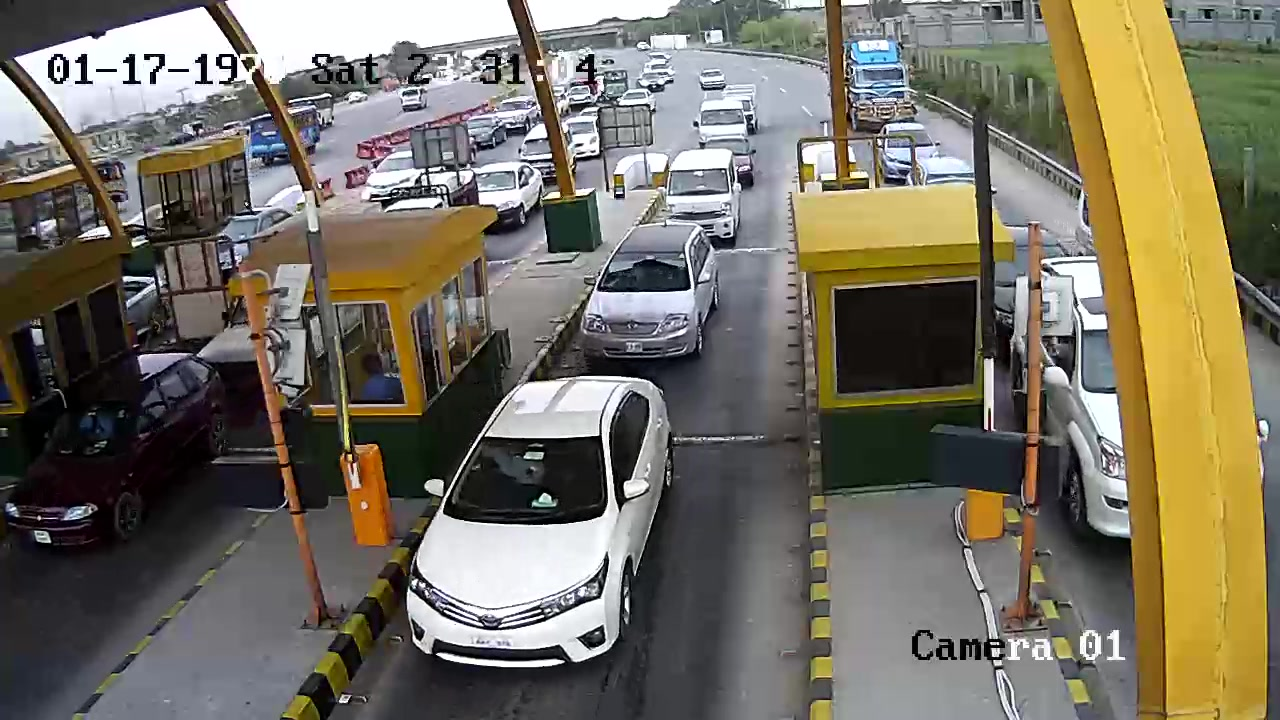F1: (407, 371, 680, 665), (571, 225, 725, 366)
